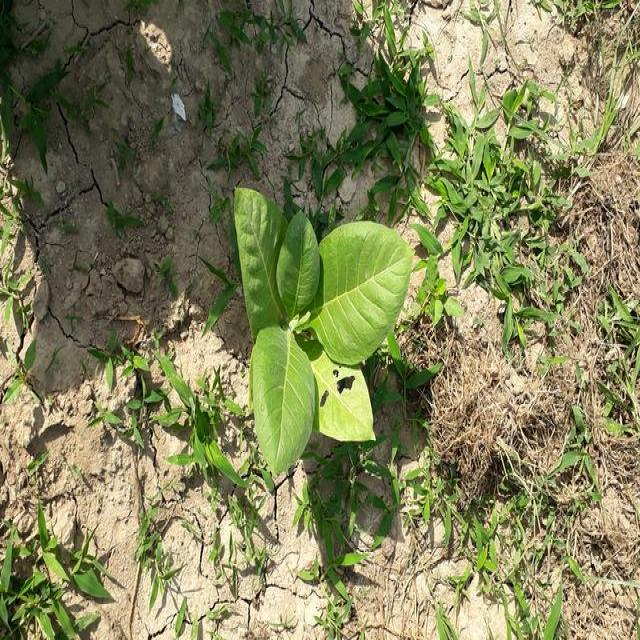crop: (234, 196, 412, 478)
